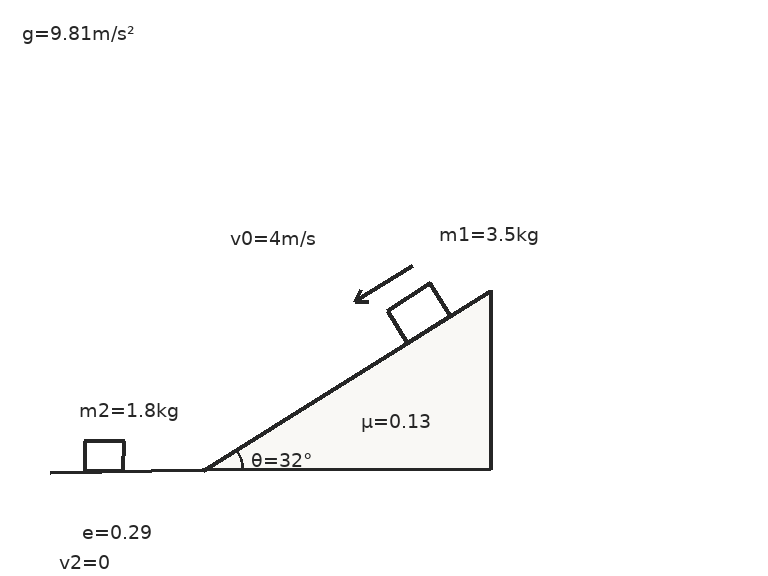block: (385, 281, 452, 344), (82, 439, 126, 472)
ramp: (200, 288, 491, 472)
